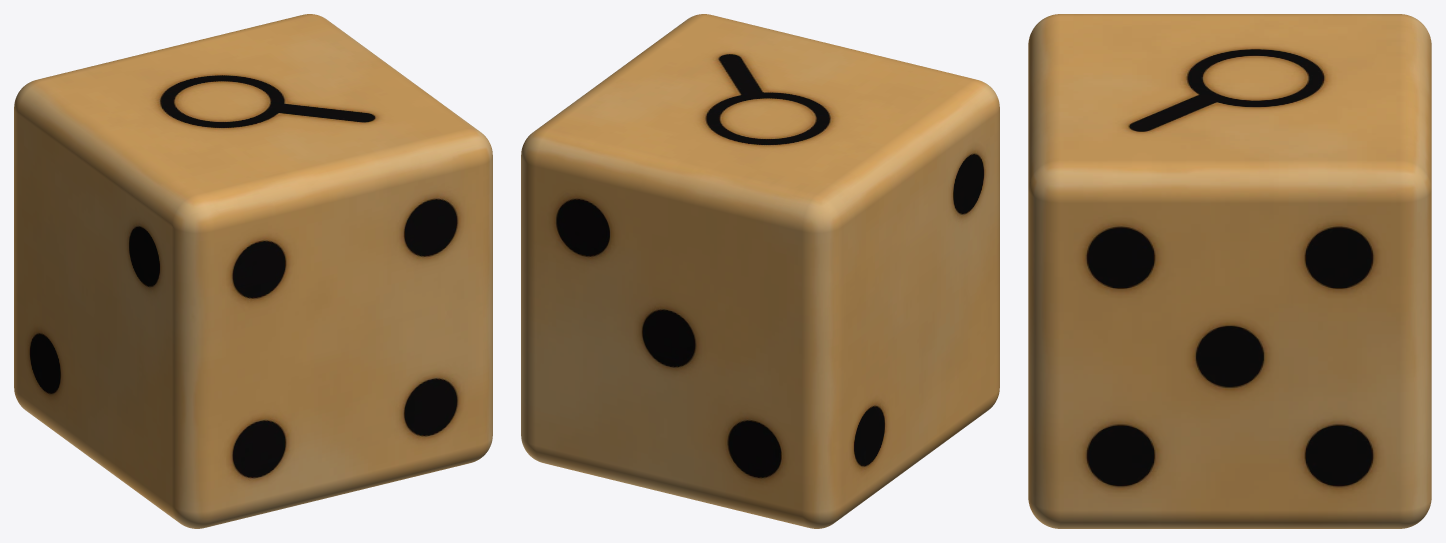
Rendered from dice_6.gltf.
3 views of the same model, side by side, from view 1: azimuth 30°, elevation 25°; view 2: azimuth 150°, elevation 25°; view 3: azimuth 270°, elevation 25° (orthographic). The views are drawn at different scales.
Parts seen in each view (by area): view 1: dice_6; view 2: dice_6; view 3: dice_6.
Boxes of the visible parts, x1,y1,x2,y2 form: dice_6: (14, 14, 492, 528); dice_6: (521, 14, 999, 528); dice_6: (1028, 14, 1431, 528).
Size of the model in its own units: 104 by 104 by 104.
Materials: 1 (1 with a texture image).
